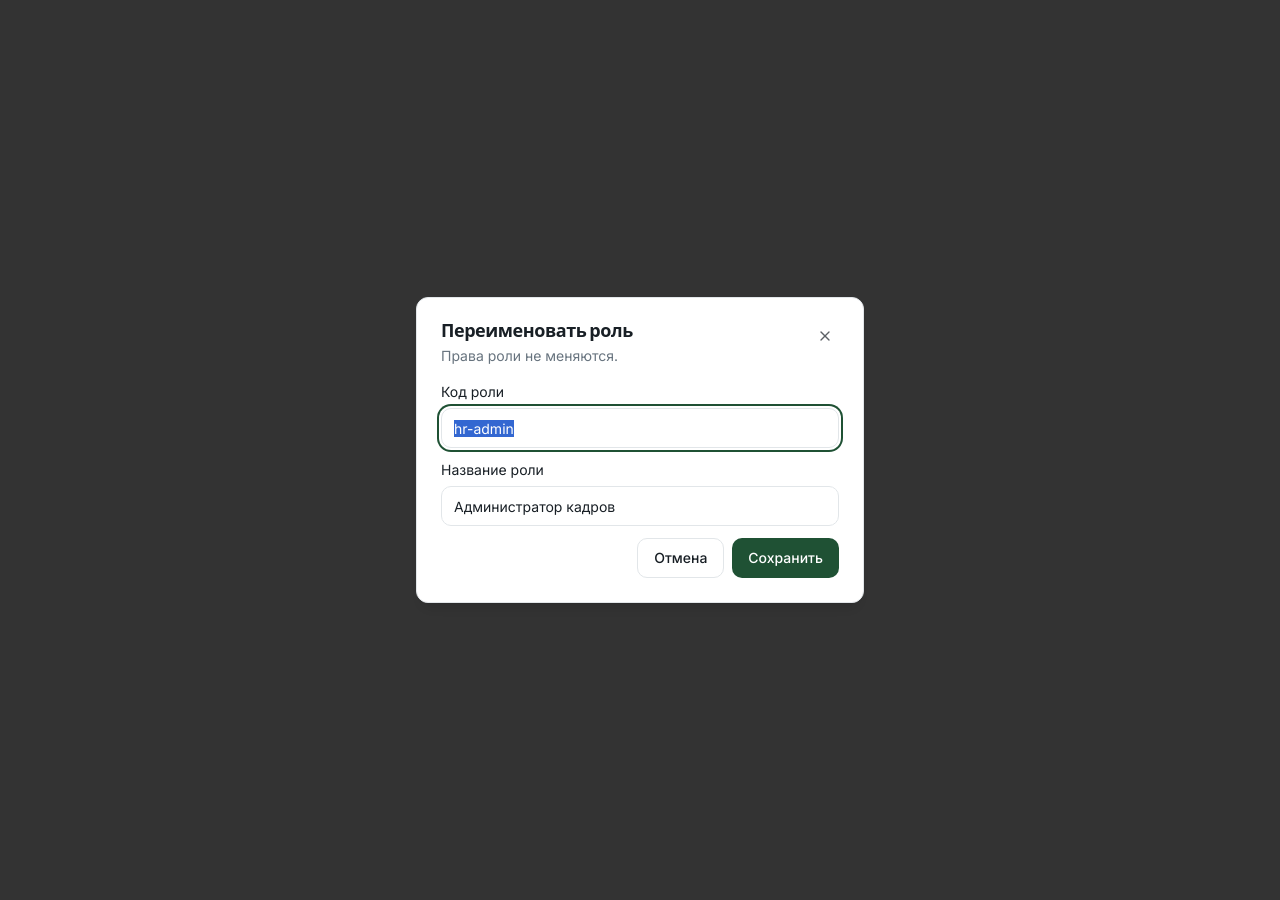
Test: RoleFormDialog › пустое поле не даёт сохранить
Clear the field labelled "Название роли": (640, 506) x1=441 y1=486 x2=839 y2=526
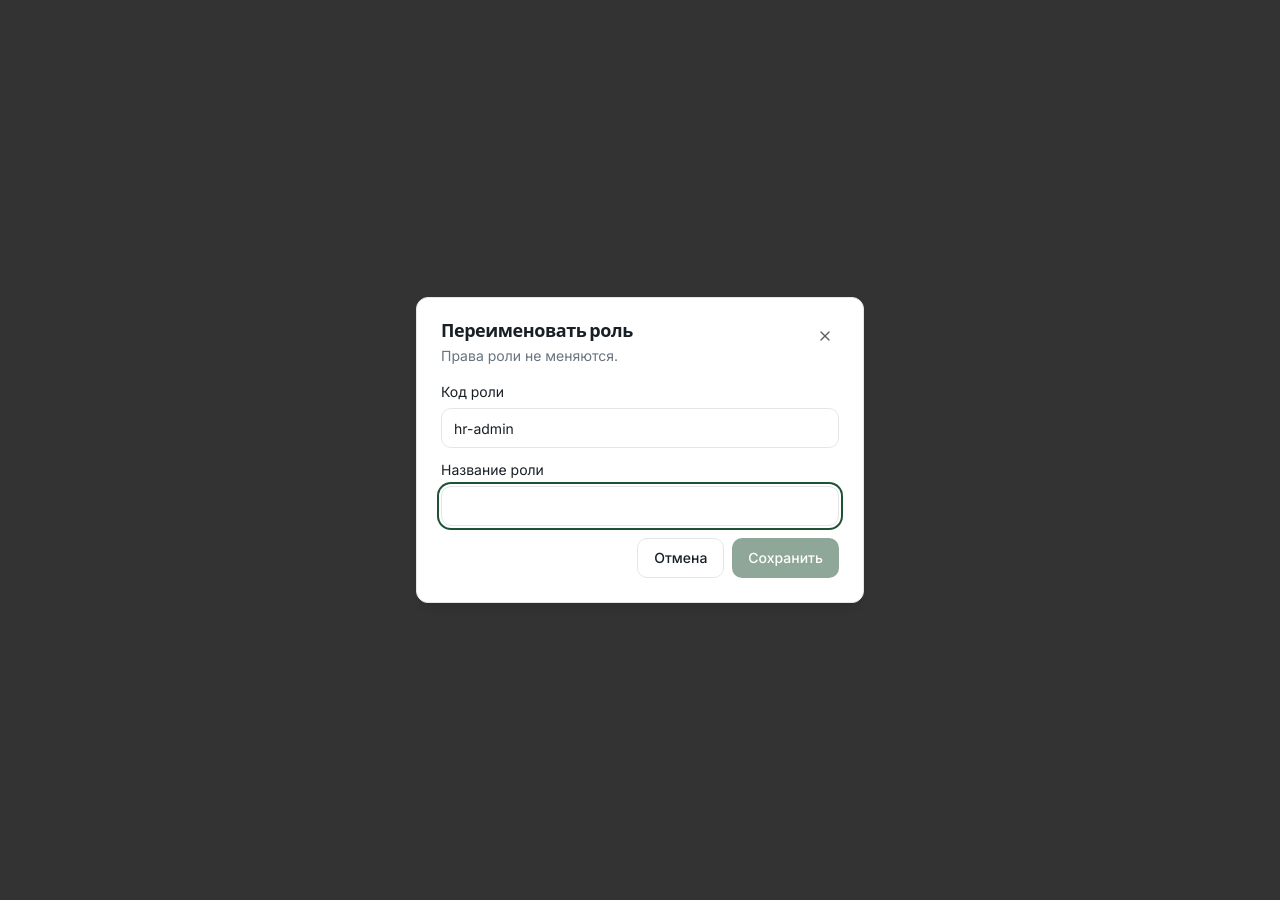
Result: the button "Сохранить" is disabled at x1=732 y1=538 x2=839 y2=578
